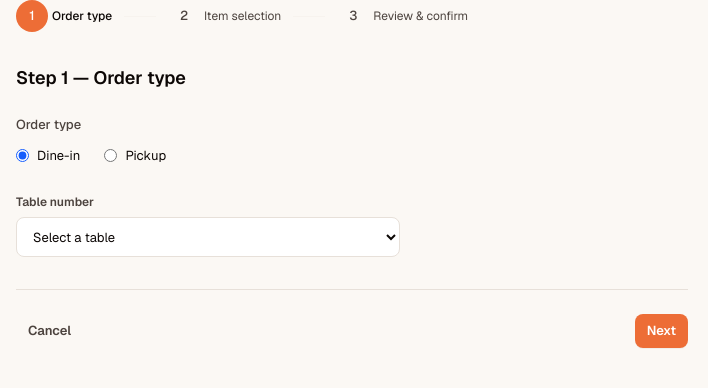
Scenario: OrderWizard › clicking Next on Step 1 with no table number shows validation error
Click the button "Next". click: click(661, 331)
box: [635,314,688,348]
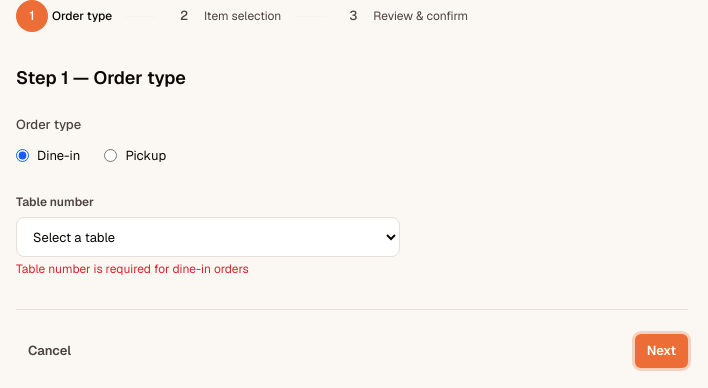
Now the text "Table number is required for dine-in orders" is shown, box [16,261,249,277]
